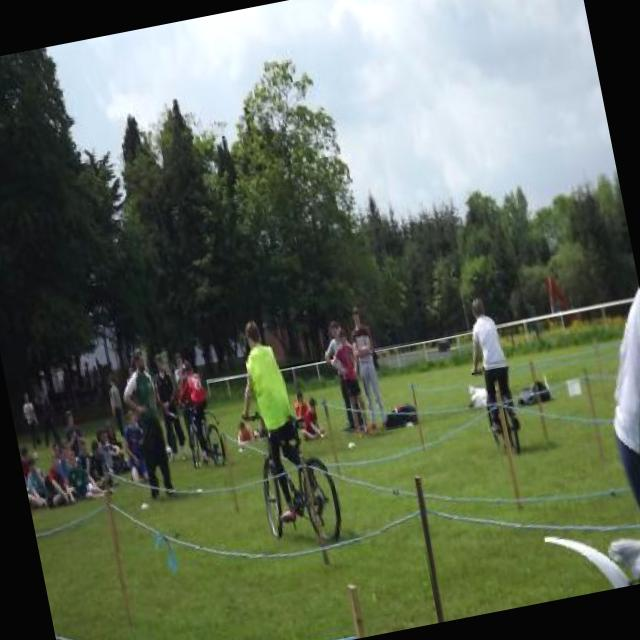Person: (224, 312, 330, 528), (585, 285, 640, 581), (113, 342, 177, 504), (458, 290, 520, 422), (344, 304, 389, 422), (173, 356, 220, 466), (146, 350, 192, 460), (326, 324, 372, 432), (321, 322, 366, 429), (170, 347, 204, 453), (117, 408, 151, 487), (37, 454, 80, 509), (66, 446, 105, 506), (74, 435, 108, 501), (20, 390, 47, 460), (86, 436, 118, 492), (34, 385, 60, 451), (23, 456, 52, 514), (295, 394, 327, 442), (104, 419, 131, 475), (95, 426, 125, 474), (232, 420, 264, 458), (62, 410, 86, 458), (105, 374, 126, 424), (292, 388, 313, 430), (26, 476, 48, 515), (56, 444, 76, 484), (52, 441, 62, 459), (126, 364, 136, 378), (134, 411, 140, 427)
